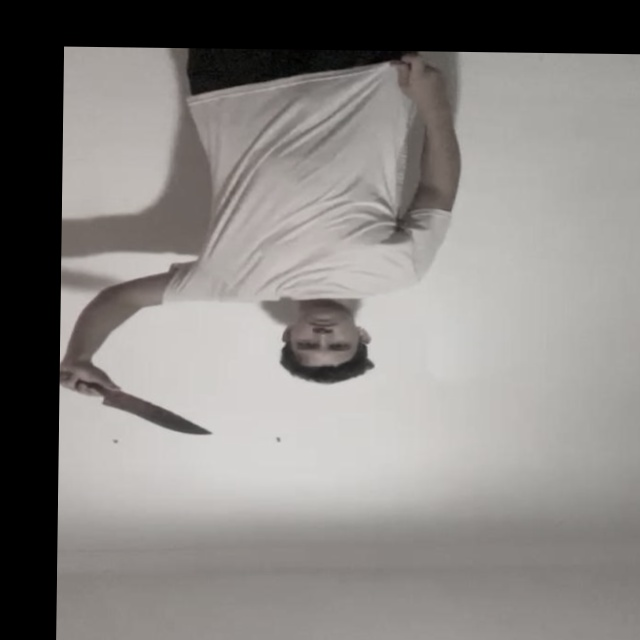Sharp-Object: (108, 398, 208, 435)
